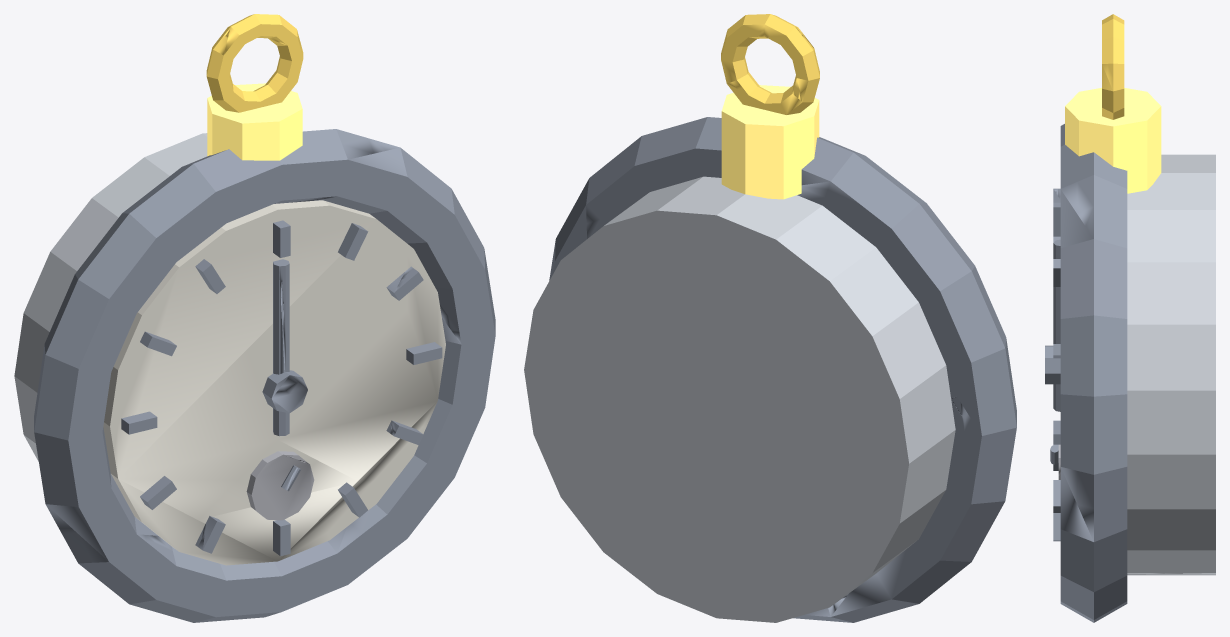
File: clock.glb
3 views of the same model, side by side, from view 1: azimuth 30°, elevation 25°; view 2: azimuth 150°, elevation 25°; view 3: azimuth 270°, elevation 25° (orthographic). The views are drawn at different scales.
Parts seen in each view (by area): view 1: PangClockCase; view 2: PangClockCase; view 3: PangClockCase.
Part boxes in pixels (x1,y1,x2,y2): PangClockCase: (14,14,495,622); PangClockCase: (524,14,1016,622); PangClockCase: (1045,14,1215,622).
Size of the model in its own units: 0.81 by 1 by 0.266.
